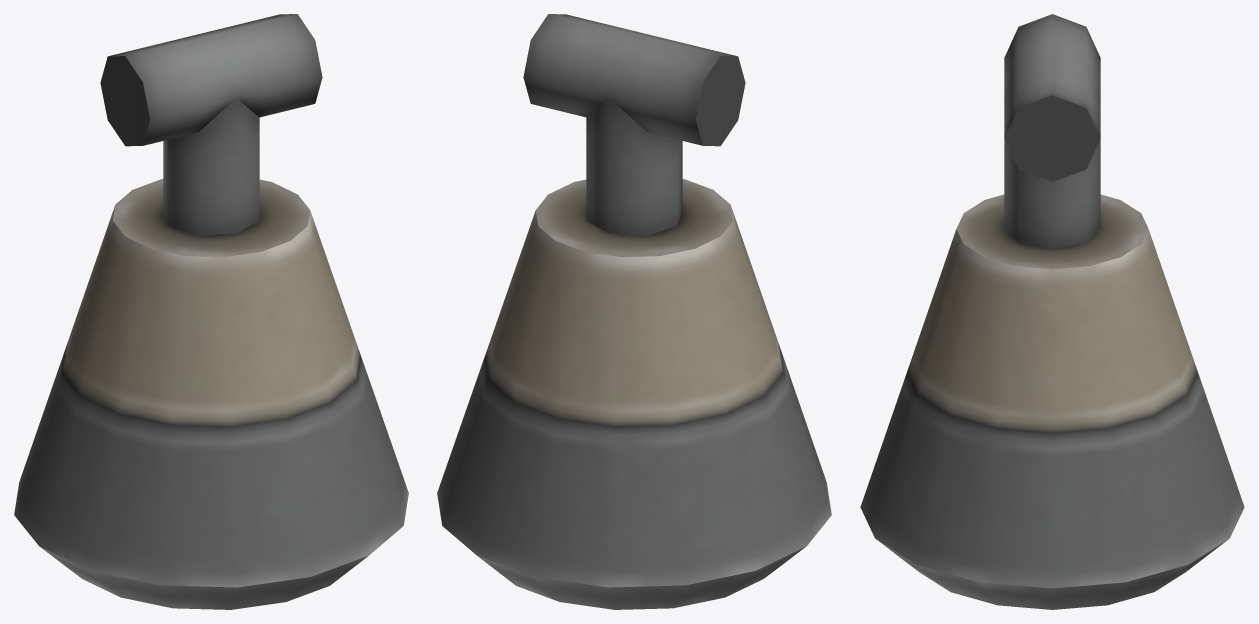
The model's file is Ara_Antenna_1_Base.obj.
3 views of the same model, side by side, from view 1: azimuth 30°, elevation 25°; view 2: azimuth 150°, elevation 25°; view 3: azimuth 270°, elevation 25° (orthographic). The views are drawn at different scales.
Parts seen in each view (by area): view 1: Ara_Antenna_1_Base; view 2: Ara_Antenna_1_Base; view 3: Ara_Antenna_1_Base.
Part boxes in pixels (x1,y1,x2,y2): Ara_Antenna_1_Base: [14, 14, 408, 609]; Ara_Antenna_1_Base: [437, 14, 831, 609]; Ara_Antenna_1_Base: [860, 14, 1244, 609].
Bounding box in the file's own units: 0.25 × 0.357 × 0.25.
